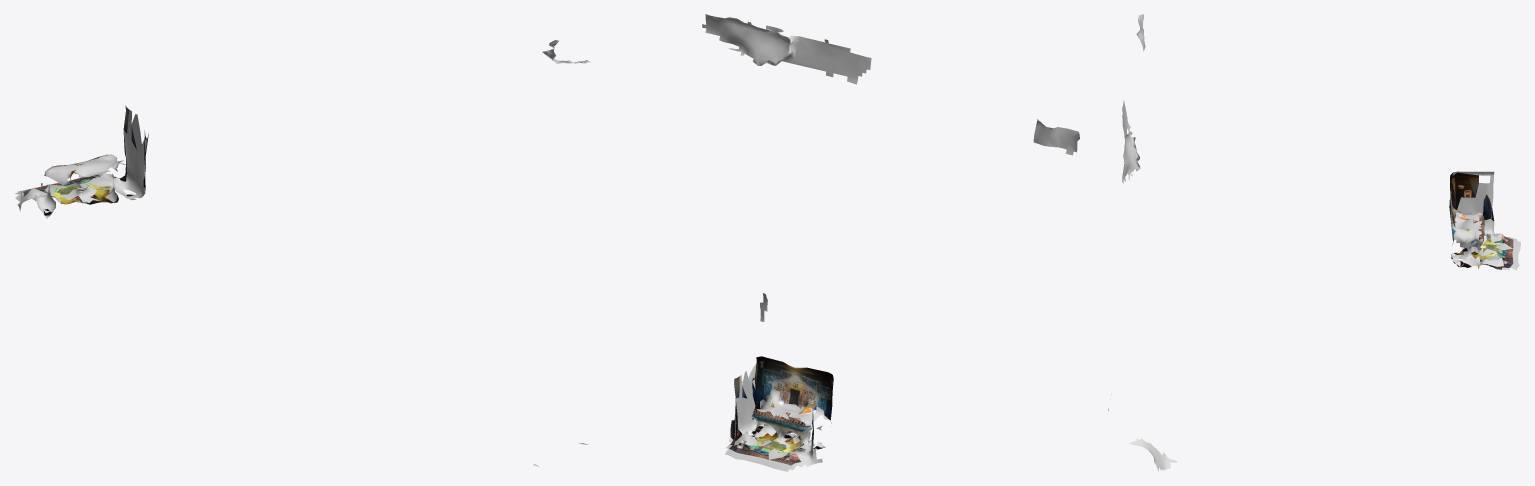
The picture shows the model from 3 angles, left to right: view 1: azimuth 30°, elevation 25°; view 2: azimuth 150°, elevation 25°; view 3: azimuth 270°, elevation 25°; orthographic projection. The views are drawn at different scales.
Visible parts, largest first — view 1: object 1, texture_0; view 2: object 1, texture_0; view 3: object 1, texture_0.
Boxes of the visible parts, x1,y1,x2,y2 form: object 1: (15,40,590,466); texture_0: (23,105,148,215); object 1: (702,14,1079,471); texture_0: (729,356,833,465); object 1: (1108,14,1520,471); texture_0: (1449,172,1513,269).
Bounding box in the file's own units: 2.16 × 1.94 × 2.17.
2 materials, 1 textured.
